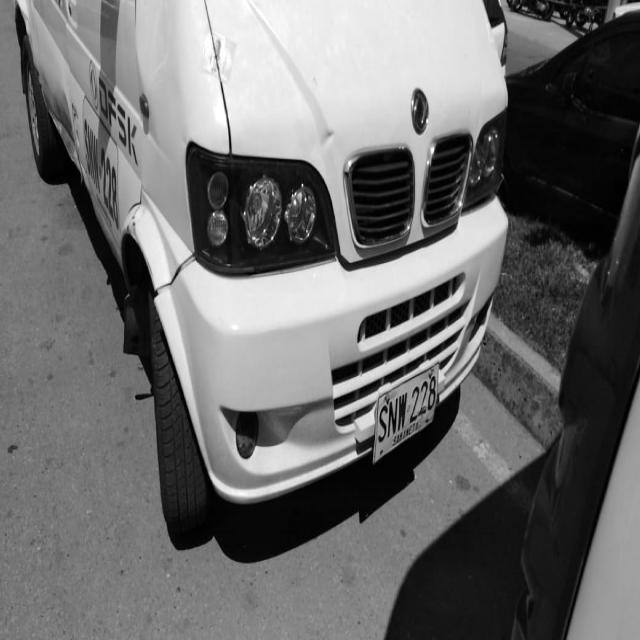plate: (375, 361, 439, 472)
